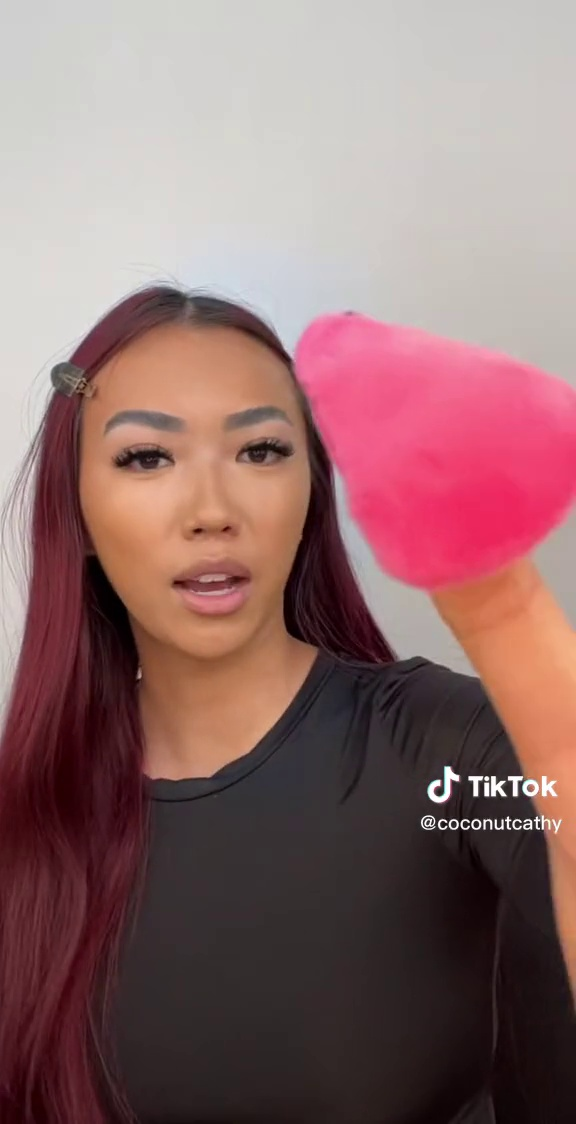train' :'yolo_data/train/images',: (283, 279, 576, 596)
